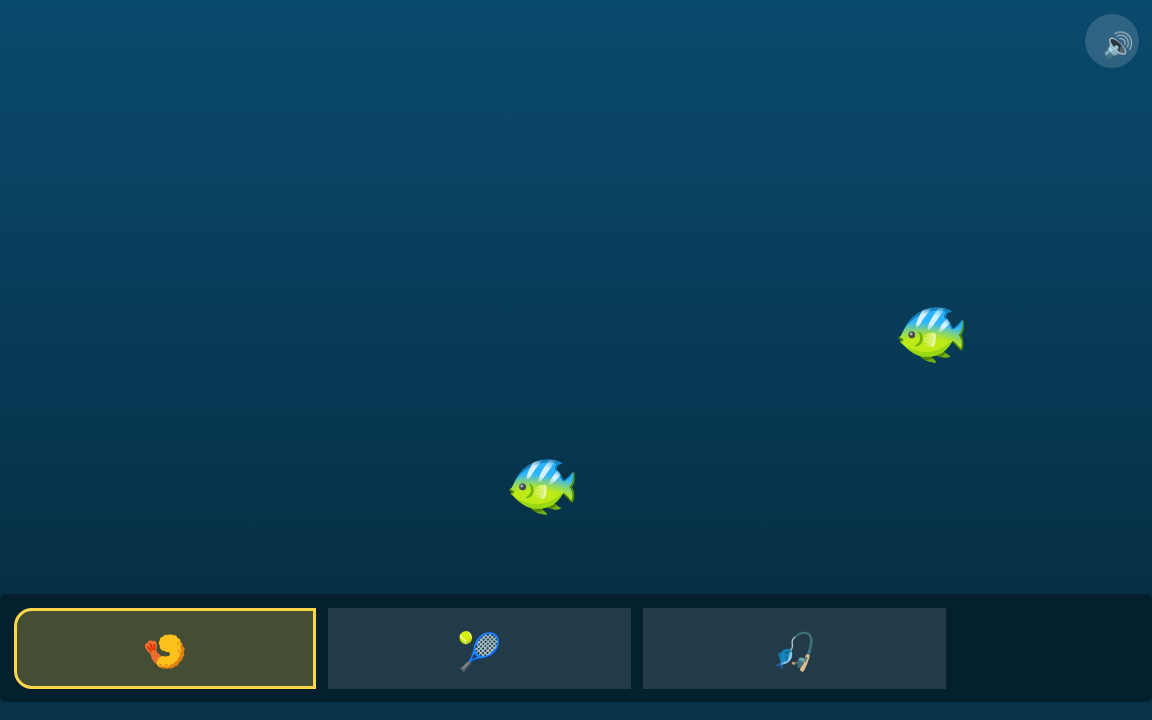
Test: Aquarium page › tapping the tank with food selected drops food
Click the element showing "🐠 🐠": (576, 297) top-left (0, 0), bottom-right (1151, 594)
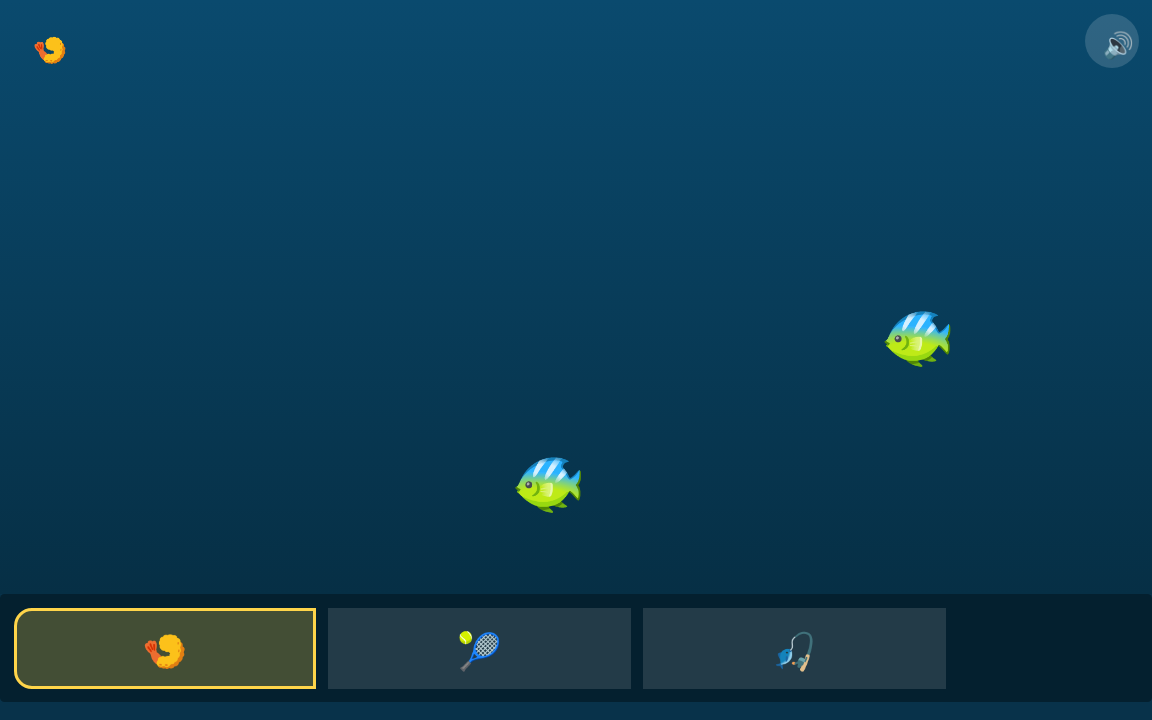
Expected: the text with test id "foodDrop" is shown, top-left (32, 28), bottom-right (67, 72)
